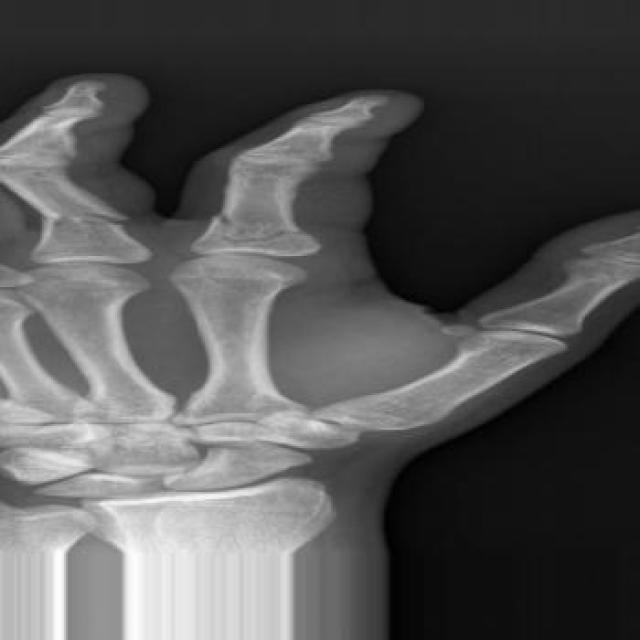Fracture: (198, 207, 319, 252), (35, 198, 138, 240)
